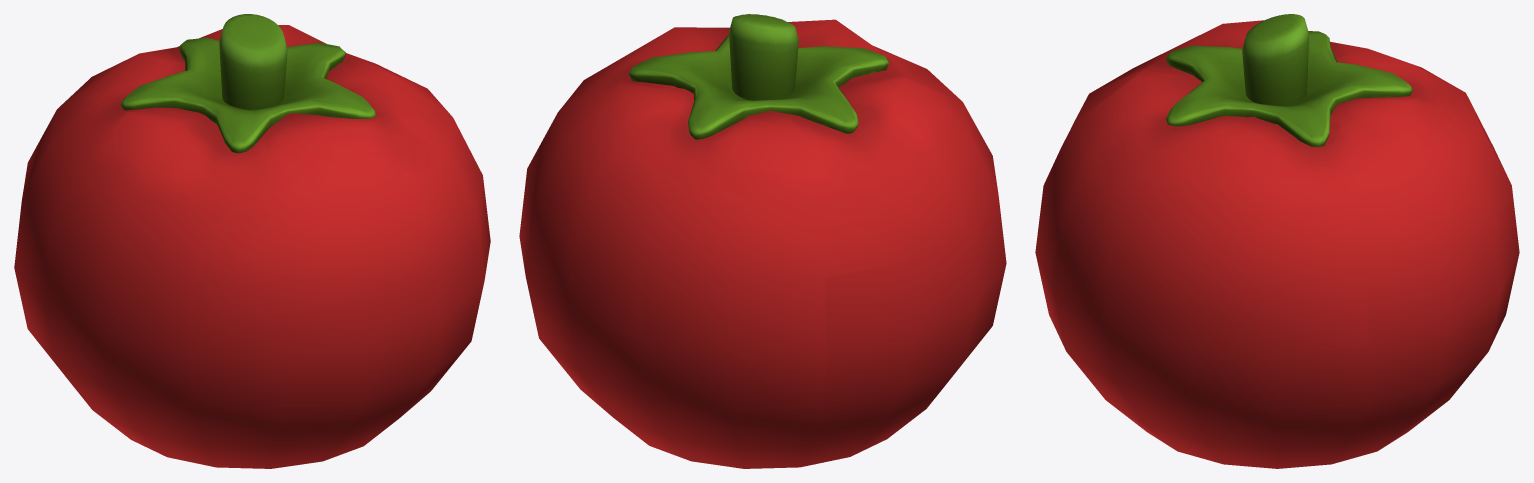
The model's file is tomato.fbx.
The picture shows the model from 3 angles, left to right: view 1: azimuth 30°, elevation 25°; view 2: azimuth 150°, elevation 25°; view 3: azimuth 270°, elevation 25°; orthographic projection. The views are drawn at different scales.
Visible parts, largest first — view 1: tomato.003; view 2: tomato.003; view 3: tomato.003.
Boxes of the visible parts, x1=… form: tomato.003: x1=14, y1=14, x2=490, y2=468; tomato.003: x1=519, y1=14, x2=1006, y2=468; tomato.003: x1=1035, y1=14, x2=1519, y2=468.
Bounding box in the file's own units: 138 × 130 × 138.
